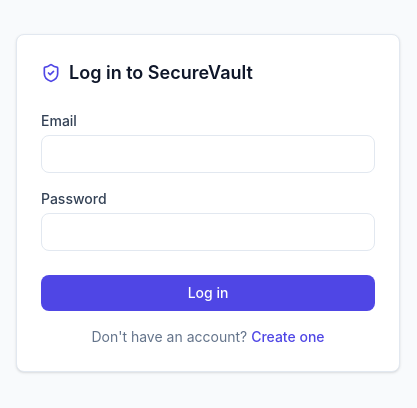
Test: LoginPage › should_surfaceTheBackendsErrorMessage_when_loginIsRejected
Type "dave@example.com" into the field labelled "Email" at coordinates (208, 154), box [41,135,375,173]
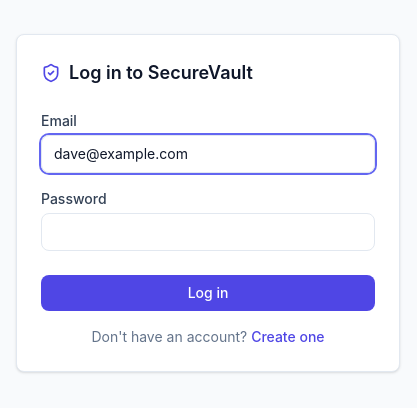
Type "WrongPassword1!" into the password field labelled "Password" at coordinates (208, 232), box [41,213,375,251]
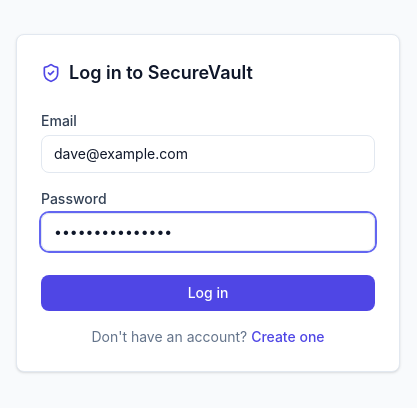
Click the button "Log in" at coordinates (208, 293), box [41,275,375,311]
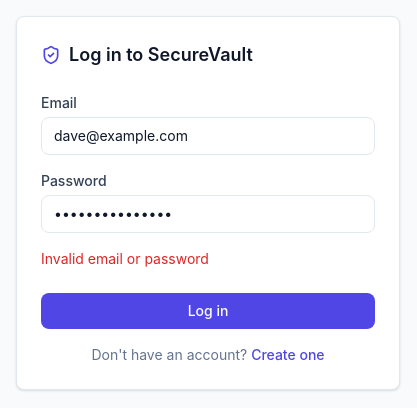
Expected: the button "Log in" is enabled, [41,293,375,329]
Now the text "Invalid email or password" is shown, box [41,250,209,267]
